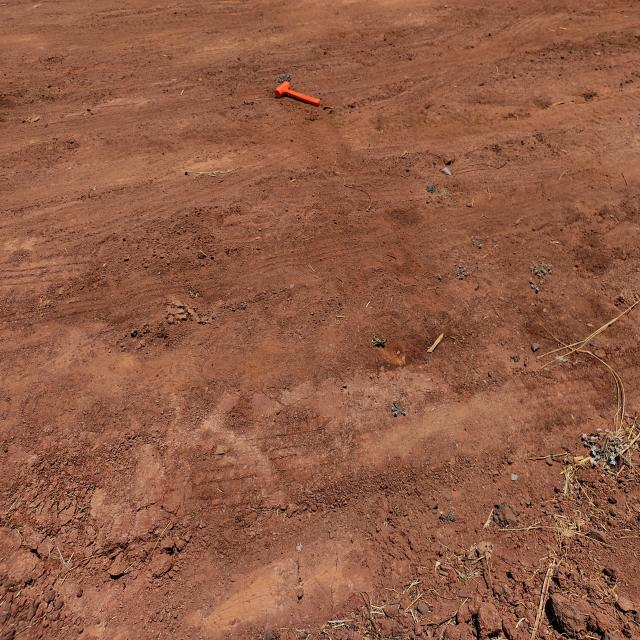Orange_hammer: (274, 80, 321, 108)
